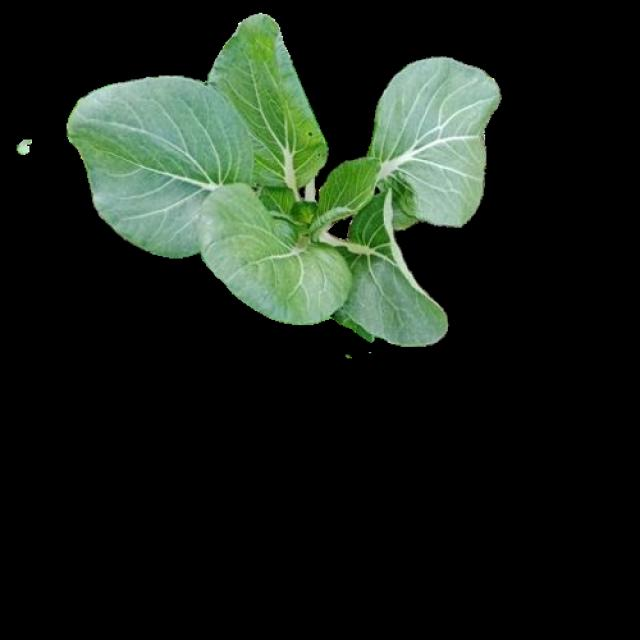not-mature: (73, 17, 494, 348)
unhealthy: (204, 17, 330, 182)
